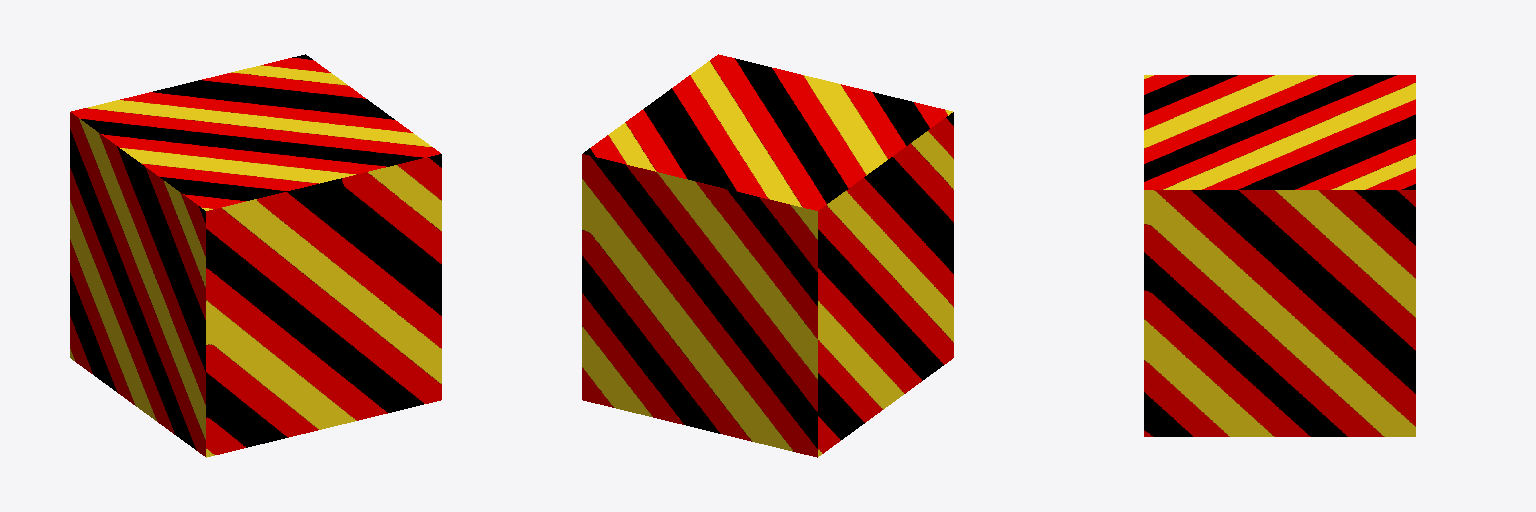
3 renders of one model, left to right at view 1: azimuth 30°, elevation 25°; view 2: azimuth 150°, elevation 25°; view 3: azimuth 270°, elevation 25°, orthographic.
Visible parts, largest first — view 1: Cube; view 2: Cube; view 3: Cube.
Boxes of the visible parts, x1,y1,x2,y2 form: Cube: [70, 54, 441, 457]; Cube: [582, 54, 953, 457]; Cube: [1144, 75, 1415, 436].
Bounding box in the file's own units: 2 × 2 × 2.
1 materials, 1 textured.